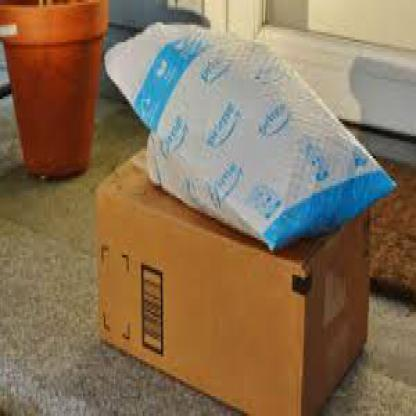package: (96, 141, 374, 414)
